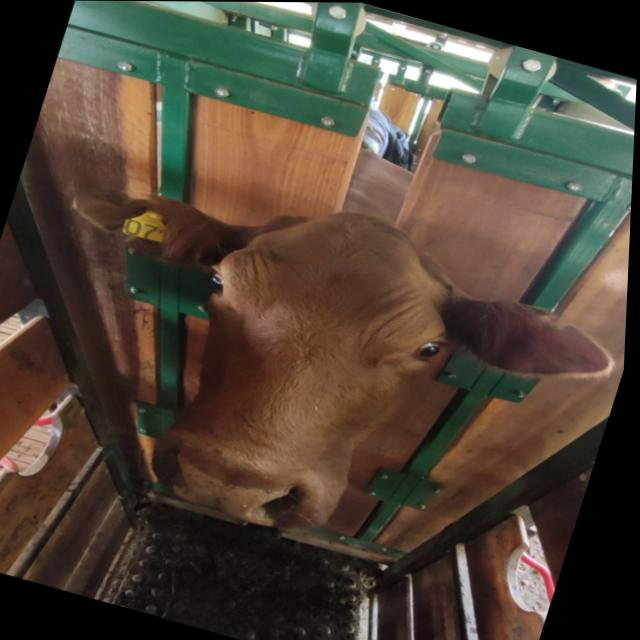cowFace: (146, 179, 482, 557)
